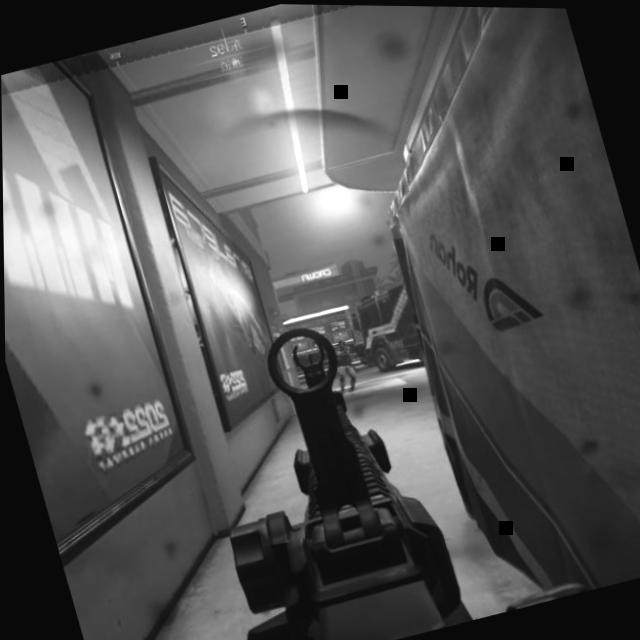MW2_body: (327, 337, 361, 392)
